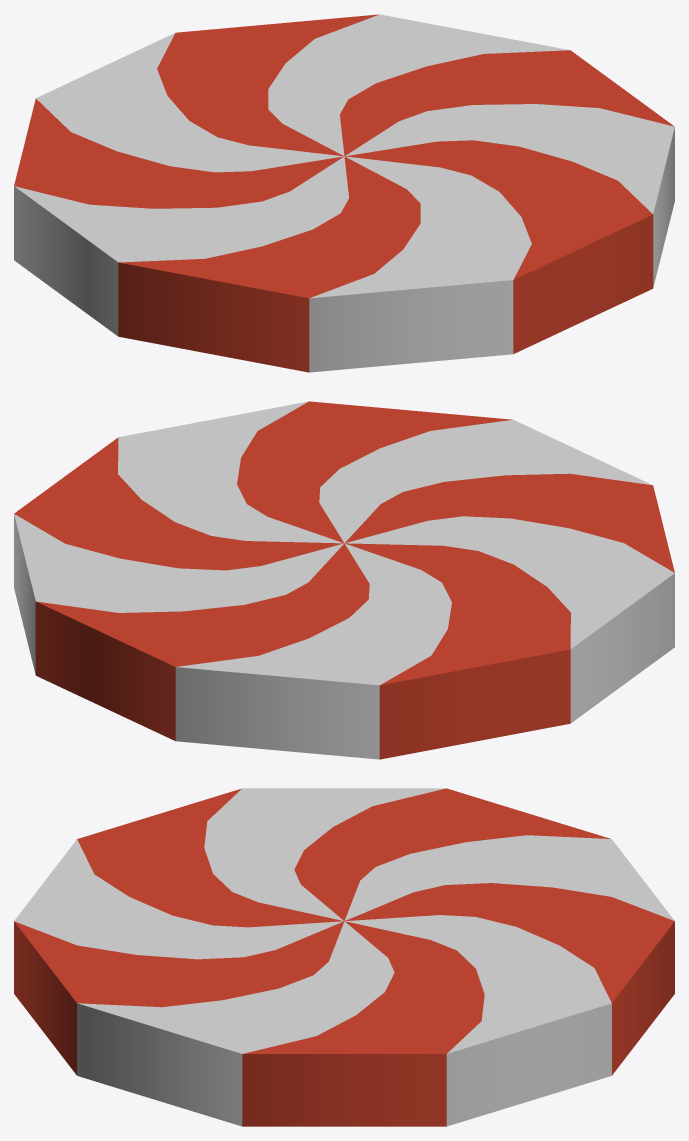
Rendered from Candy_01.fbx.
The picture shows the model from 3 angles, top to bottom: view 1: azimuth 30°, elevation 25°; view 2: azimuth 150°, elevation 25°; view 3: azimuth 270°, elevation 25°; orthographic projection. The views are drawn at different scales.
Parts seen in each view (by area): view 1: Candy_01; view 2: Candy_01; view 3: Candy_01.
Boxes of the visible parts, left/top/right/bottom form: Candy_01: left=14, top=14, right=674, bottom=372; Candy_01: left=14, top=401, right=674, bottom=759; Candy_01: left=14, top=788, right=674, bottom=1126.
Bounding box in the file's own units: 0.0482 × 0.00614 × 0.0506.
